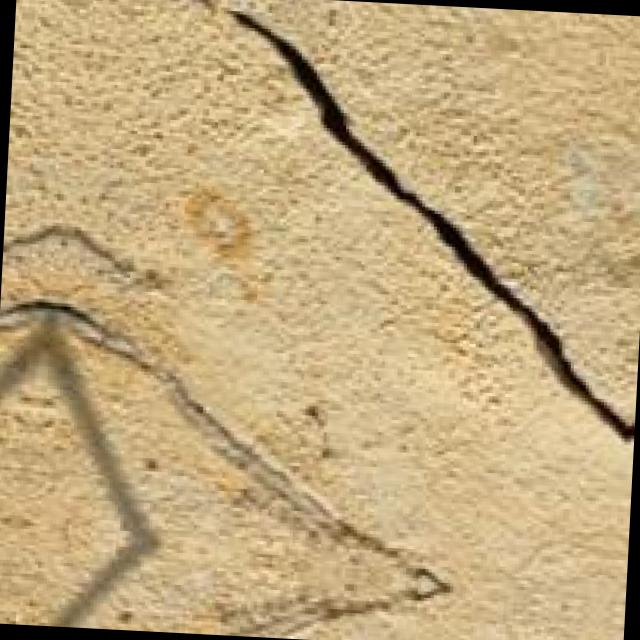crack: (237, 0, 640, 451)
